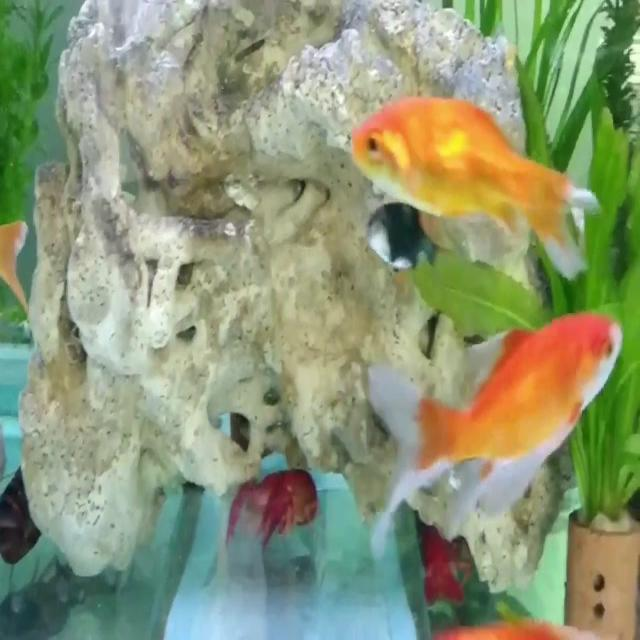GoldFish: (366, 303, 628, 561), (350, 91, 601, 281)
